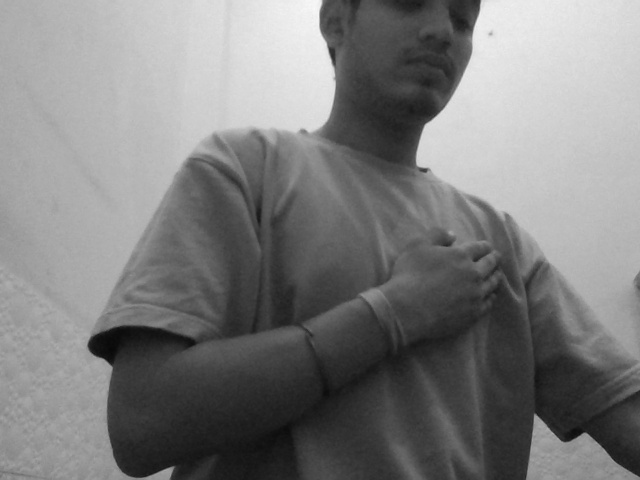Sorry: (344, 202, 561, 366)
